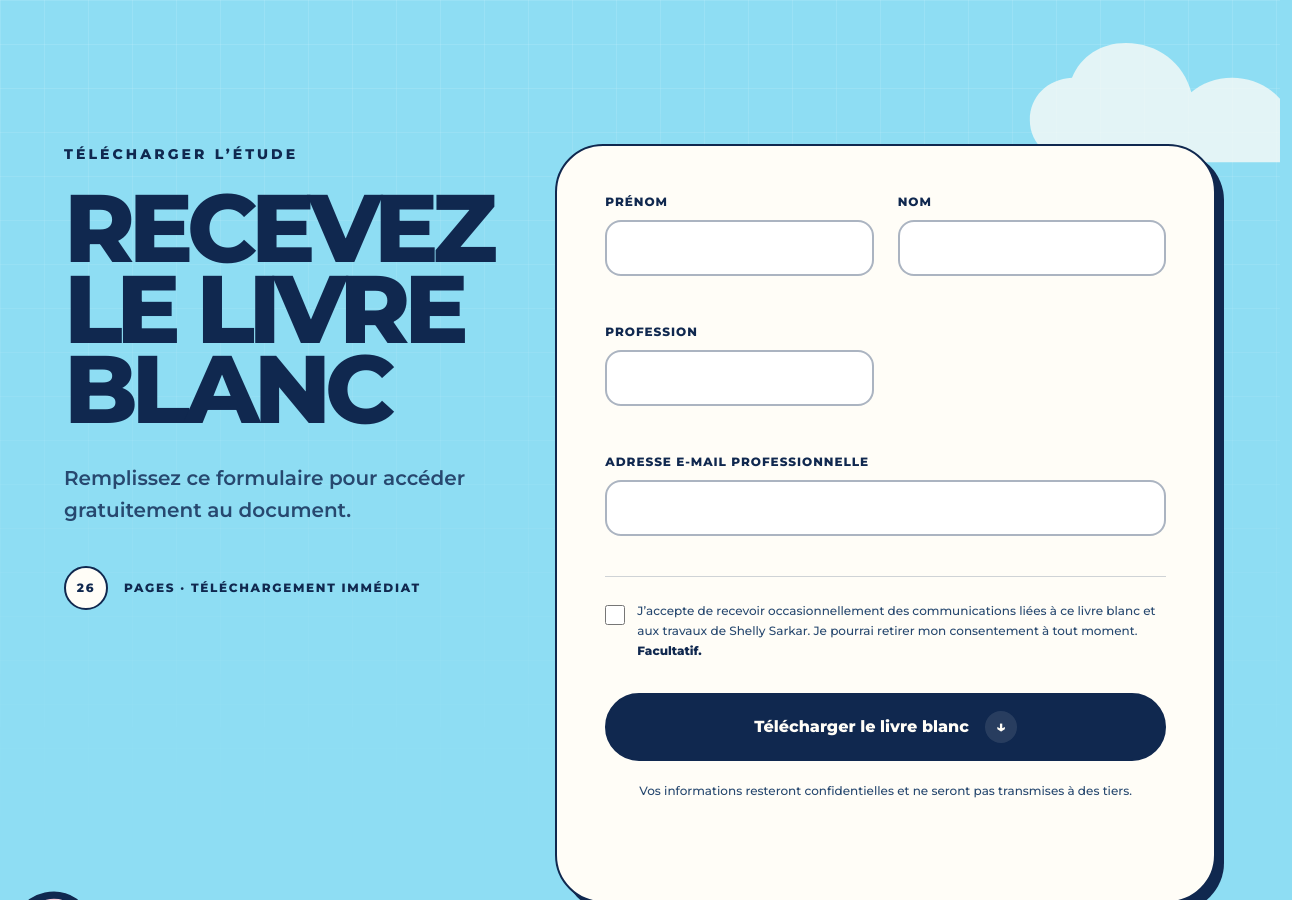
Test: download form › downloads after Formspree success without requiring marketing consent
In the field labelled "Prénom": (739, 248) 605,220 -> 874,276, type "Camille"
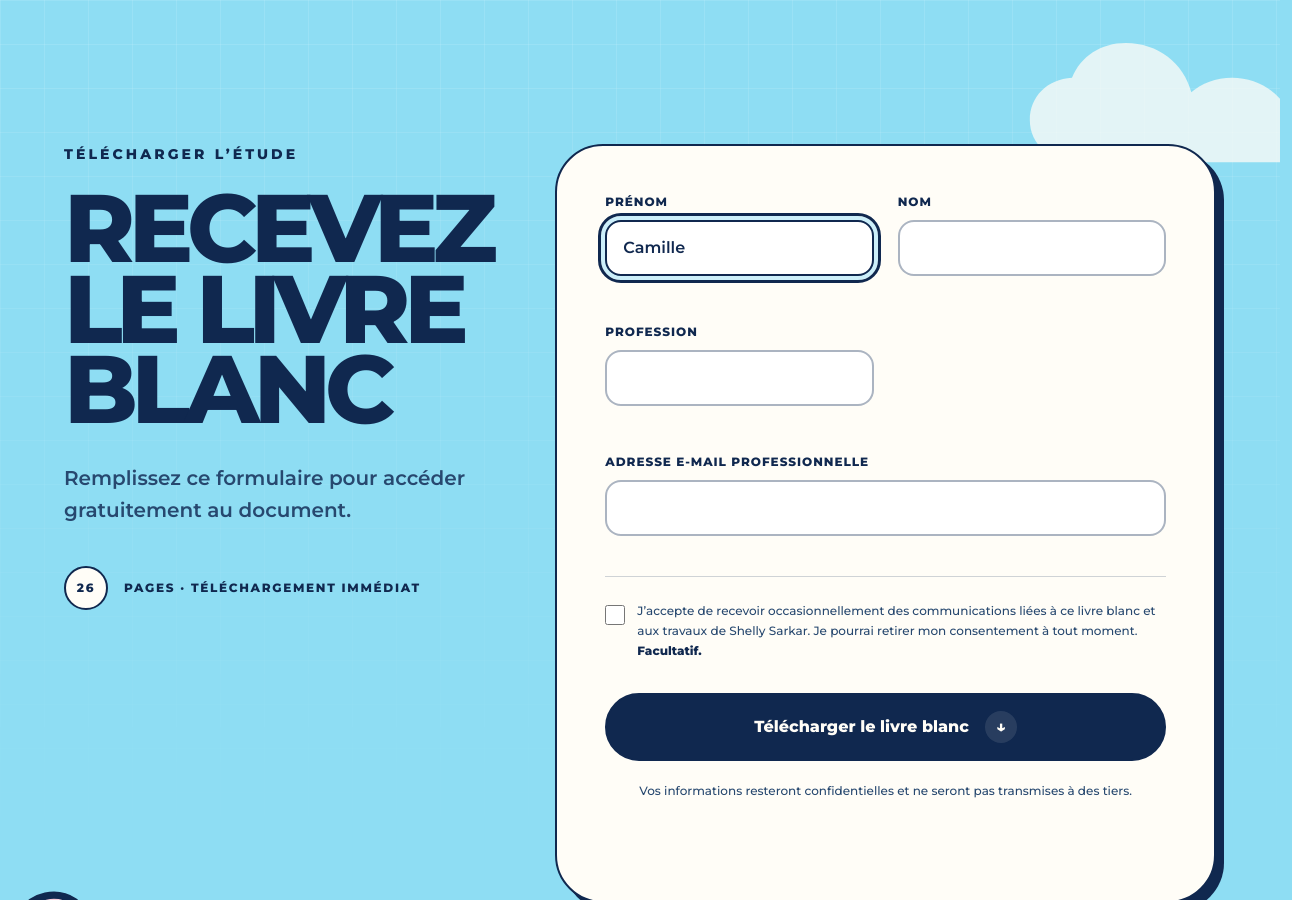
In the field labelled "Nom": (1032, 248) 898,220 -> 1166,276, type "Martin"
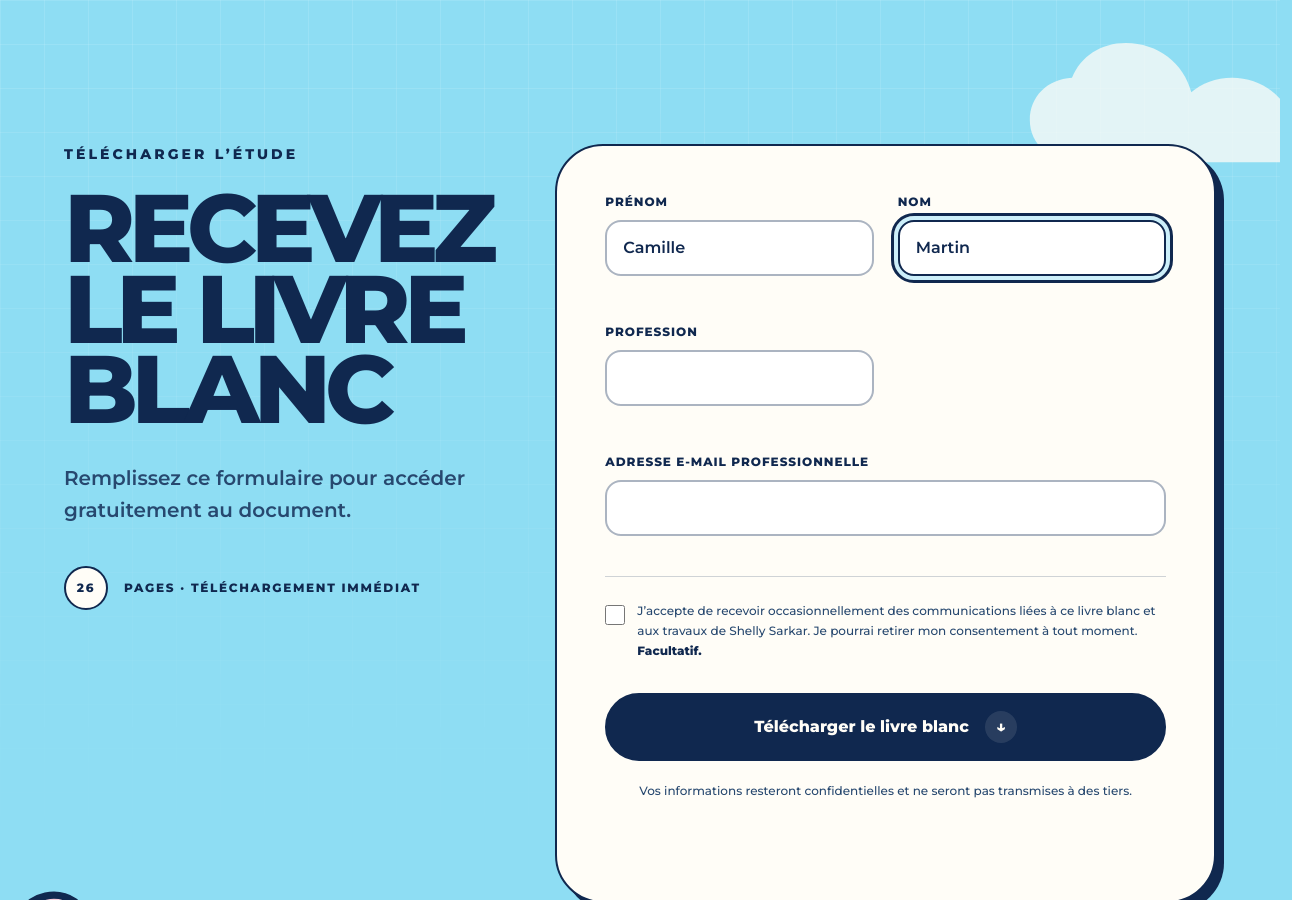
In the field labelled "Profession": (739, 378) 605,350 -> 874,406, type "Planneuse stratégique"
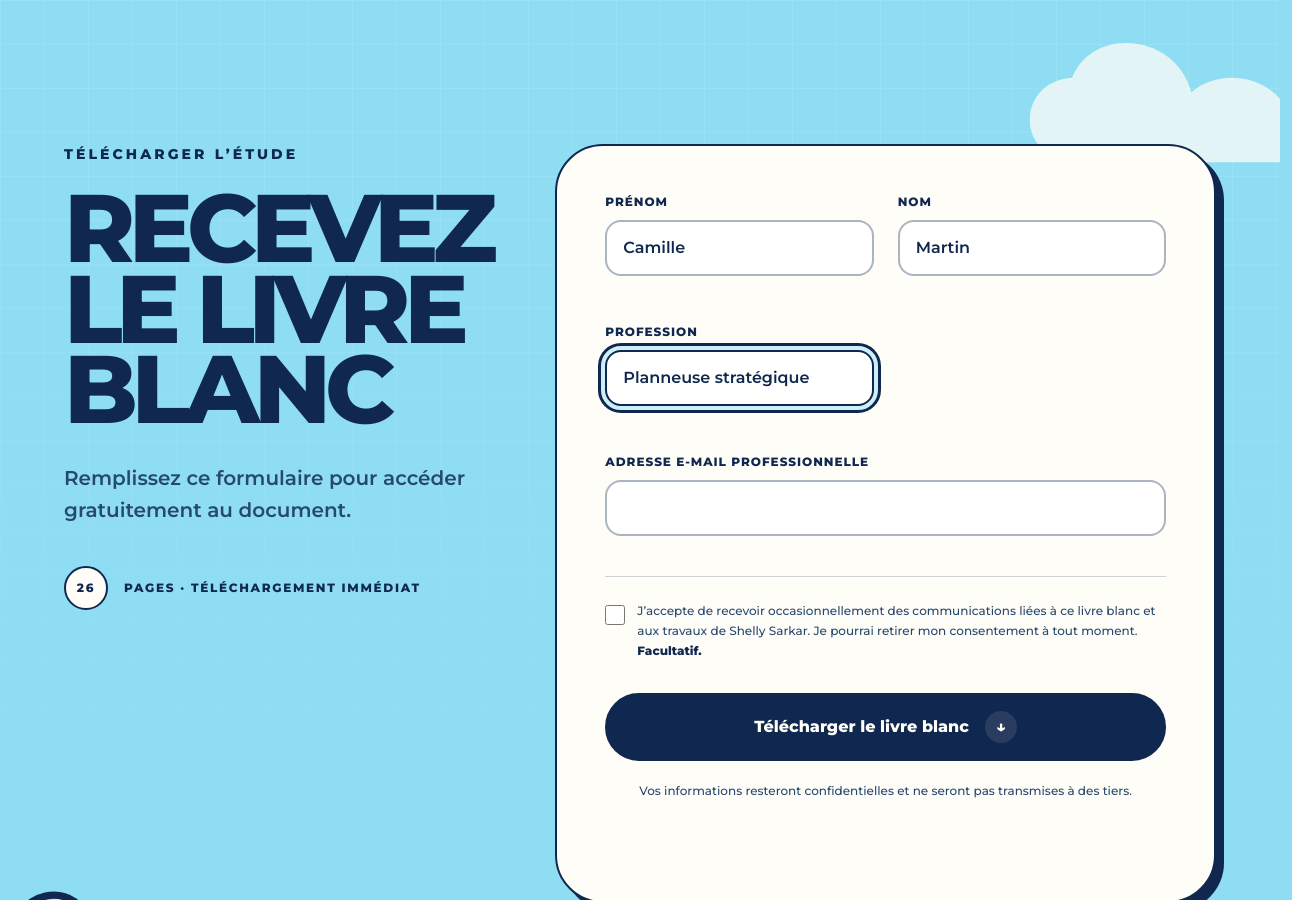
In the field labelled "Adresse e-mail professionnelle": (886, 508) 605,480 -> 1166,536, type "camille@example.com"
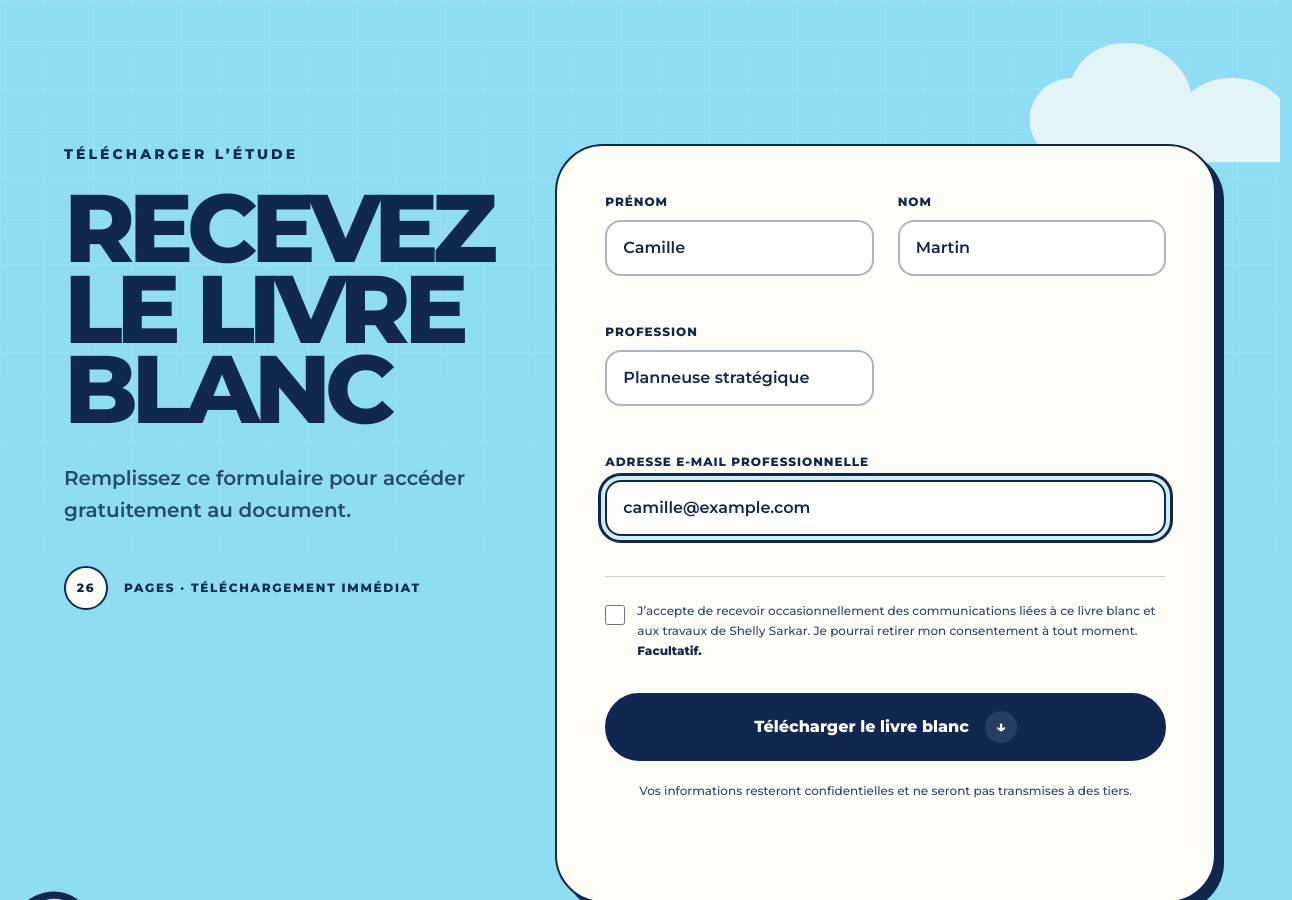
Expected: the checkbox labelled "J’accepte de recevoir" is not checked, 605,605 -> 625,625
Click the button "Télécharger le livre blanc ↓": click(886, 727) 605,693 -> 1166,761
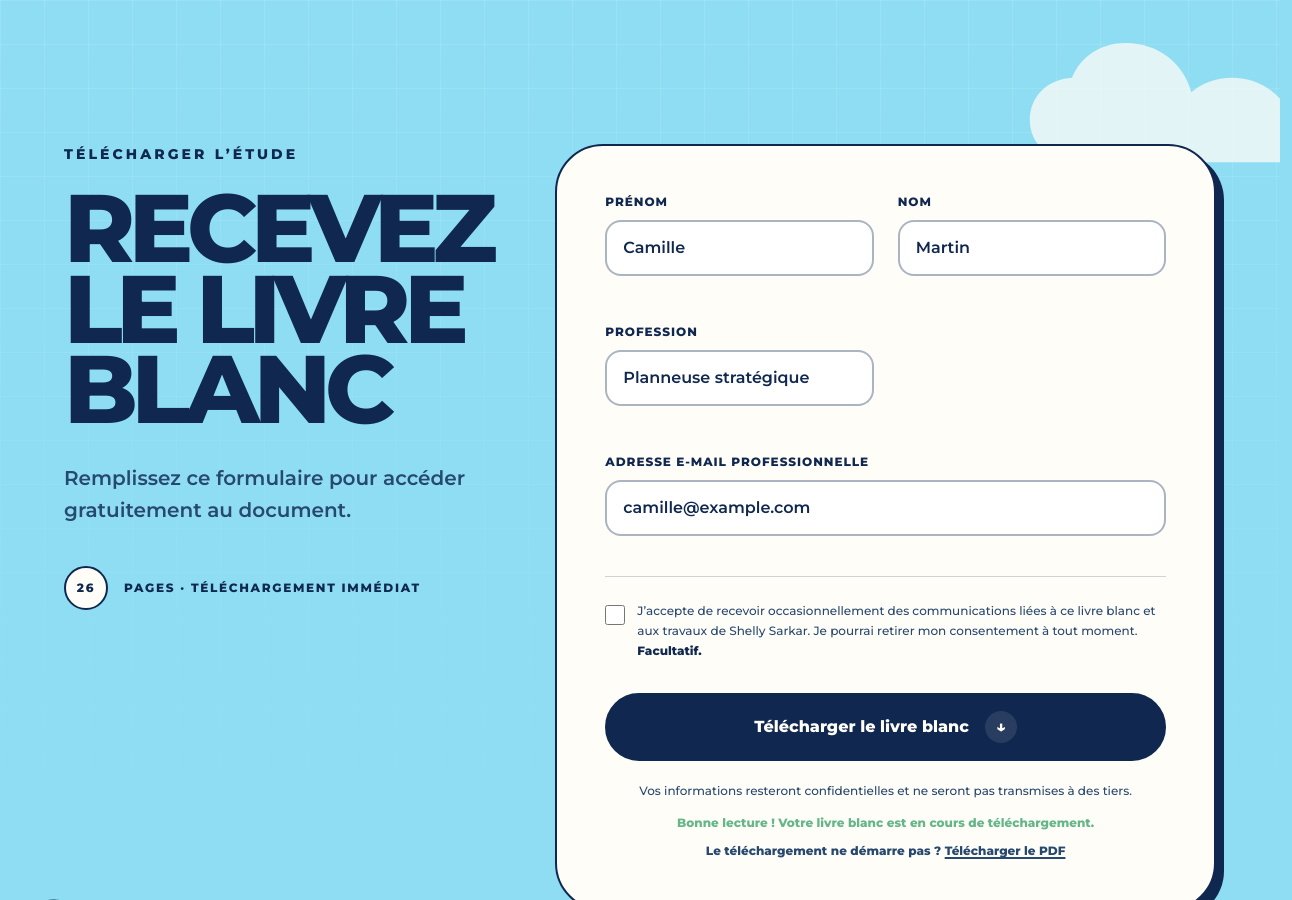
Now the message shows "Bonne lecture ! Votre livre blanc est en cours de téléchargement.", box 677,815 -> 1094,830
